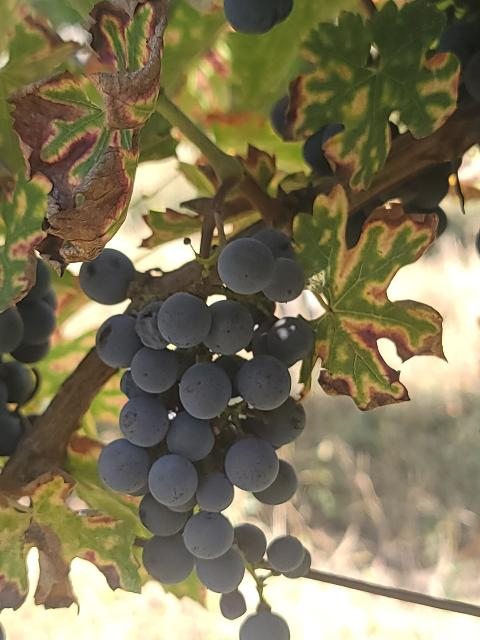grapes: (96, 238, 314, 619)
